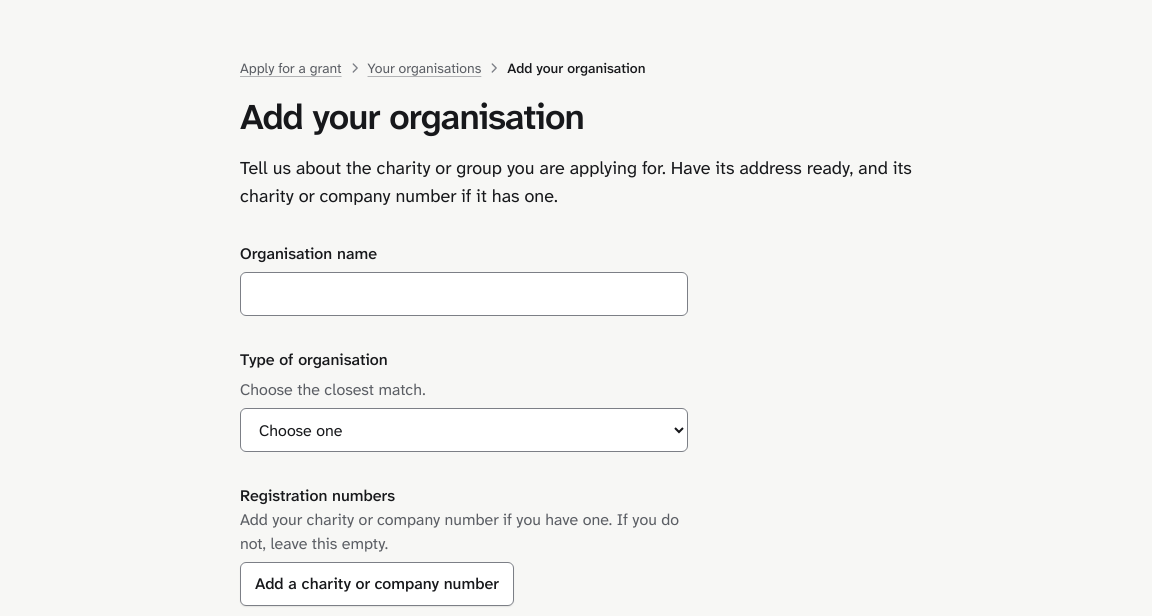
it: adding an organisation › removes a number, and puts focus on the button that adds one
This screenshot has width=1152, height=616.
Click the button "Add a charity or company number": (377,584) [240, 562, 514, 606]
(page scrolled)
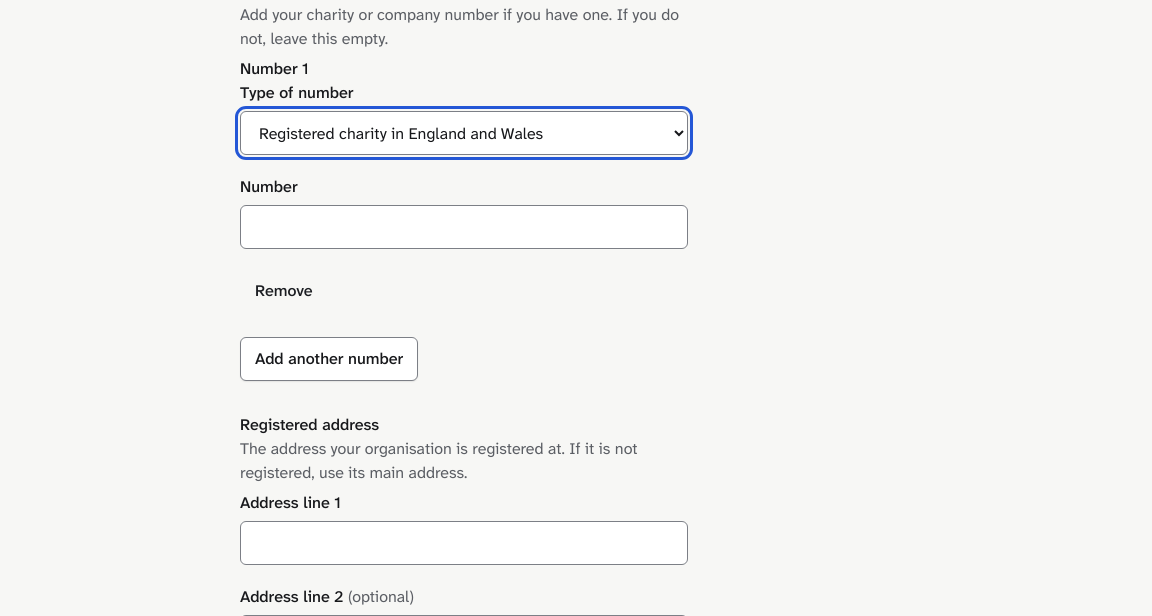
Click the button named "Remove number 1": (284,291) [240, 269, 328, 313]
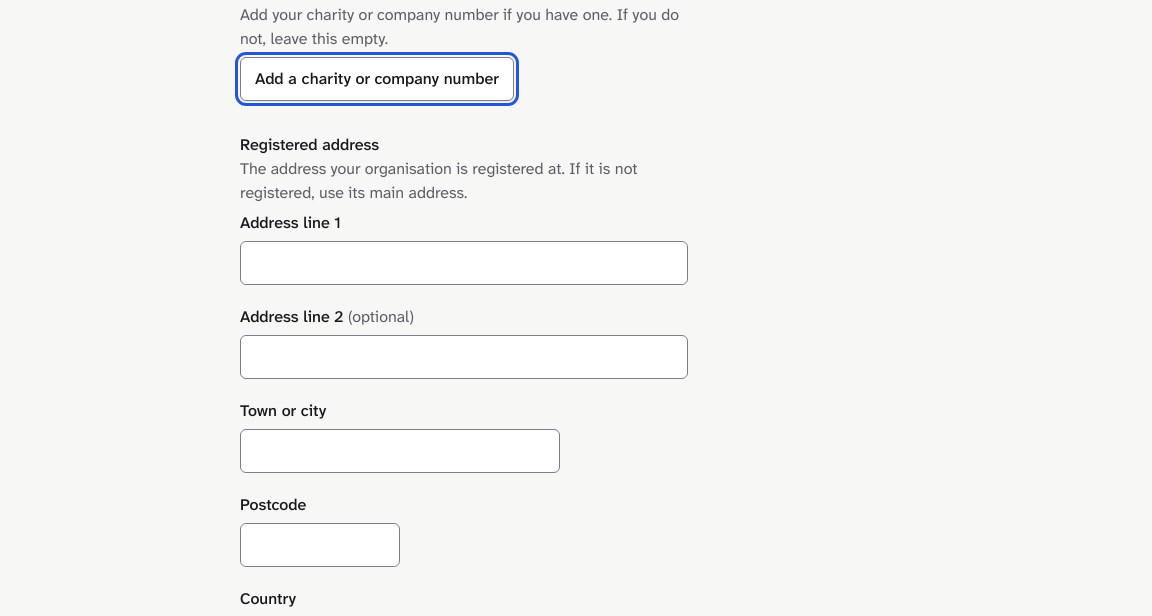
Now the text "Number 1" is gone
